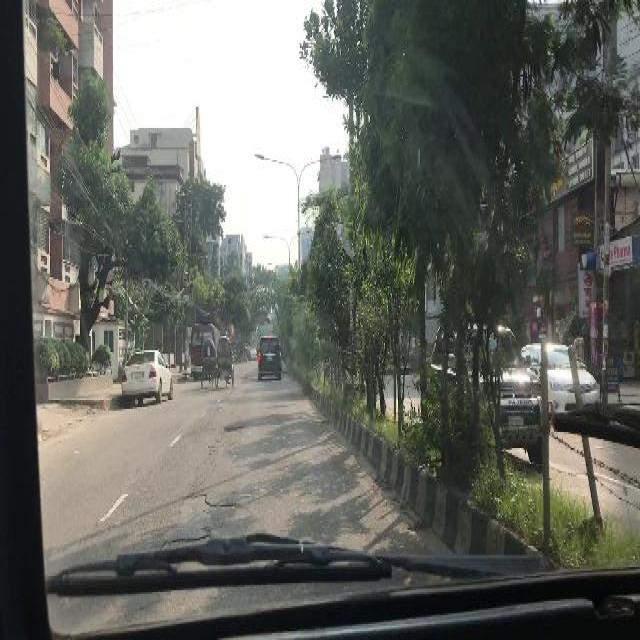bus: (189, 320, 217, 372)
car: (428, 315, 550, 469), (524, 336, 600, 411), (121, 350, 173, 400)
motorcycle: (214, 338, 233, 386), (201, 340, 215, 386)
truck: (257, 336, 281, 377)
